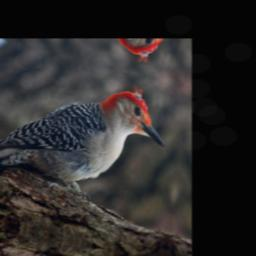Woodpecker: (0, 51, 173, 221)
